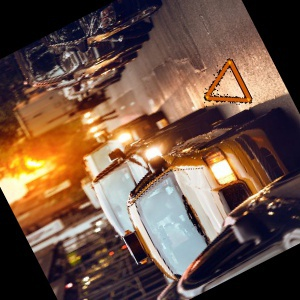triangle: (202, 54, 256, 107)
